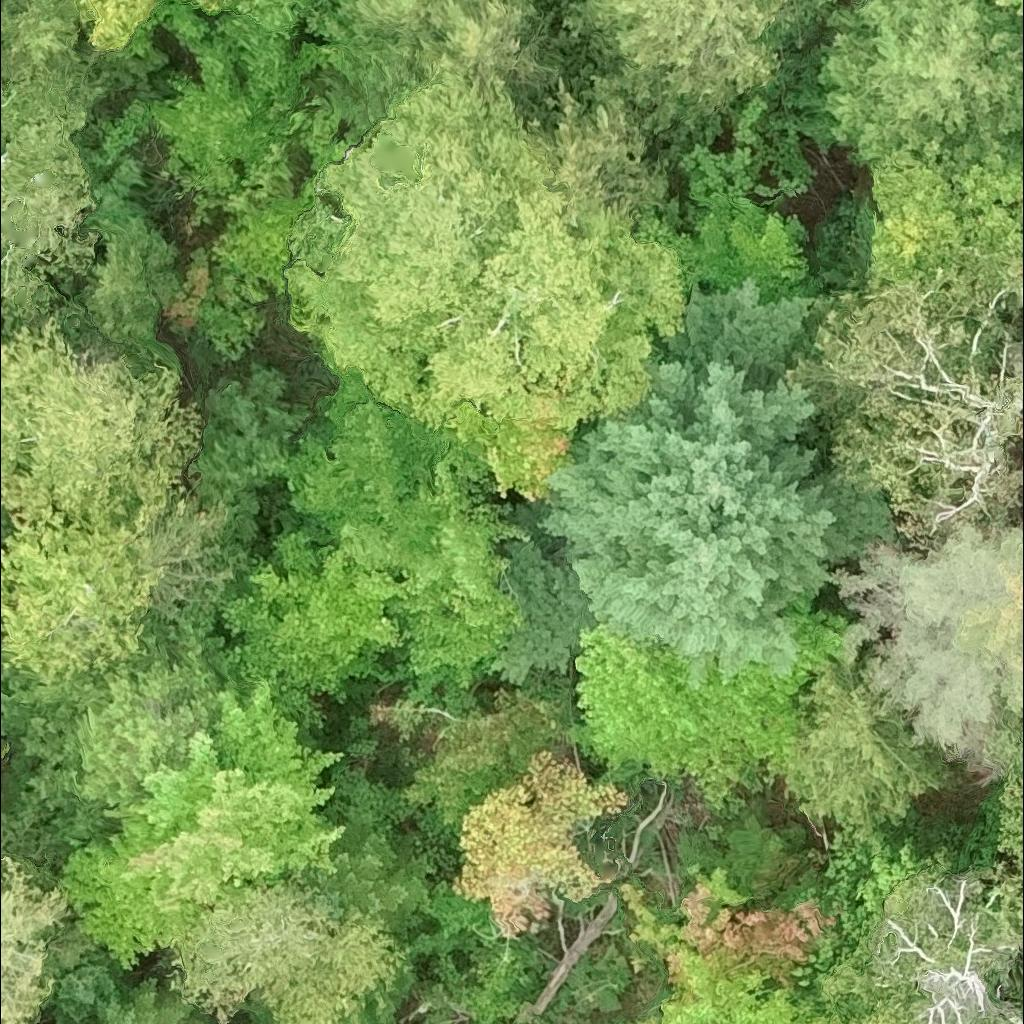crown: (480, 274, 901, 692), (289, 50, 684, 431), (56, 666, 351, 971), (784, 246, 1023, 546), (567, 608, 854, 812), (0, 622, 234, 860), (829, 519, 1023, 782), (335, 437, 532, 690), (0, 314, 199, 525), (557, 0, 846, 145), (811, 849, 1023, 1023), (164, 874, 411, 1023), (814, 0, 1023, 176), (218, 529, 406, 724), (622, 862, 843, 1023), (450, 747, 630, 939), (780, 653, 966, 831), (0, 490, 168, 685), (283, 368, 458, 539), (410, 669, 579, 836), (789, 824, 936, 994), (0, 74, 107, 307), (627, 186, 827, 305), (529, 53, 675, 208), (151, 32, 291, 176), (294, 817, 435, 941), (133, 474, 244, 627), (0, 853, 93, 1023), (432, 0, 582, 98), (209, 0, 333, 108), (444, 405, 572, 508), (79, 213, 180, 341), (324, 0, 445, 81), (156, 246, 246, 342), (0, 0, 91, 88), (83, 962, 214, 1023), (980, 707, 1023, 882), (43, 943, 135, 1023), (74, 0, 187, 52), (362, 993, 396, 1023), (238, 998, 276, 1023), (175, 0, 235, 15), (993, 0, 1023, 14), (33, 1014, 52, 1023), (395, 1022, 401, 1023)
